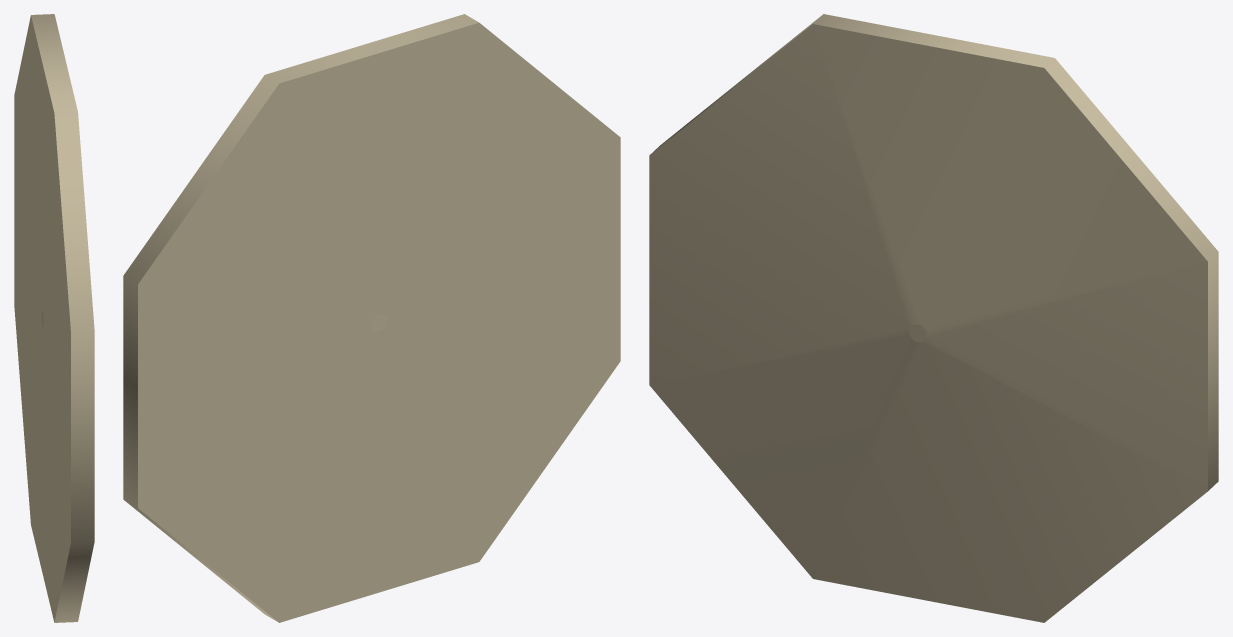
Rendered from cannon_launcher_gauge.glb.
3 views of the same model, side by side, from view 1: azimuth 30°, elevation 25°; view 2: azimuth 150°, elevation 25°; view 3: azimuth 270°, elevation 25° (orthographic). The views are drawn at different scales.
Parts seen in each view (by area): view 1: Face; view 2: Face; view 3: Face.
Part boxes in pixels (left/top/right/bottom): Face: left=14, top=14, right=94, bottom=622; Face: left=123, top=14, right=620, bottom=622; Face: left=649, top=14, right=1218, bottom=622.
Size of the model in its own units: 0.5309 by 1.18 by 1.1.
